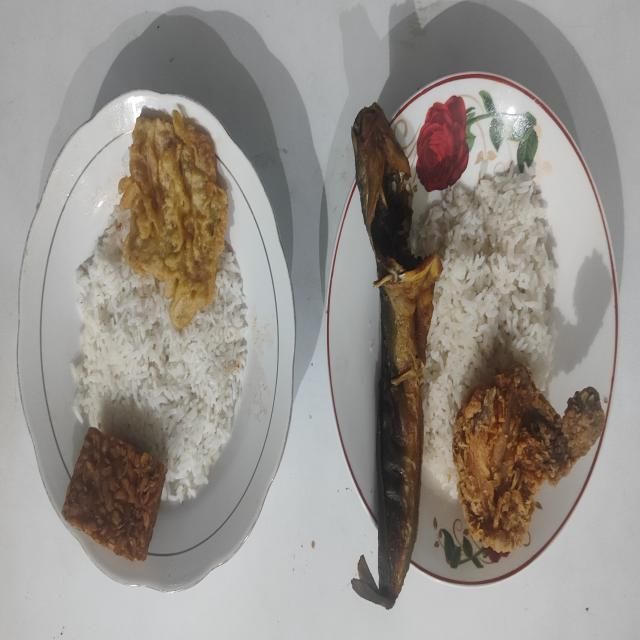nasi_putih: (73, 205, 247, 502), (420, 163, 556, 497)
tempe_goreng: (62, 427, 166, 561)
